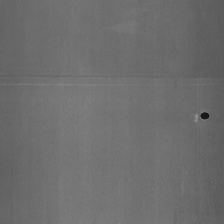welding_line: (0, 71, 222, 82), (199, 106, 212, 123)
